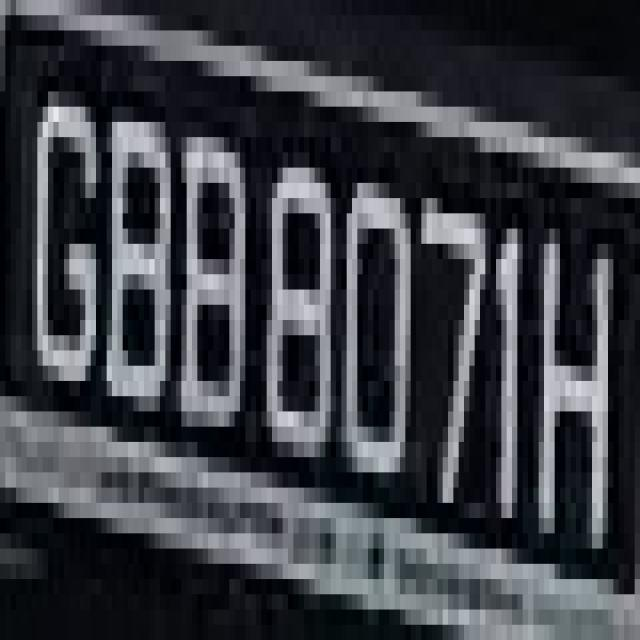0: (336, 137, 421, 518)
1: (486, 137, 534, 579)
7: (395, 152, 480, 548)
8: (256, 122, 336, 457)
B: (176, 91, 256, 503), (107, 76, 181, 442)
G: (32, 76, 112, 412)
H: (512, 198, 619, 564)
